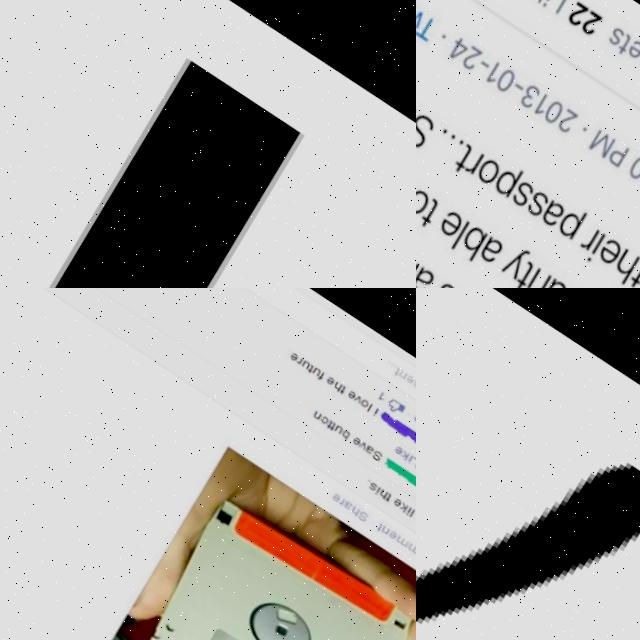0: (443, 29, 469, 58)
7: (416, 288, 640, 640)
A: (360, 436, 372, 448), (339, 492, 350, 504)
B: (335, 421, 348, 435)
E: (321, 367, 335, 380), (389, 436, 401, 448), (286, 344, 298, 356), (384, 521, 395, 533), (348, 428, 360, 439), (388, 489, 399, 500), (344, 382, 355, 393), (402, 366, 413, 377), (328, 485, 337, 496), (409, 404, 416, 416), (411, 503, 416, 516)
F: (314, 364, 324, 374)
H: (345, 498, 358, 510), (374, 481, 385, 493), (329, 373, 340, 385)
I: (0, 34, 327, 288), (368, 400, 377, 410), (401, 498, 409, 509), (370, 478, 378, 488), (404, 446, 412, 456)
K: (393, 494, 406, 506), (395, 442, 407, 454)
L: (405, 447, 416, 460), (363, 394, 371, 406), (405, 501, 412, 510)
M: (402, 534, 416, 548), (390, 527, 405, 540), (409, 370, 416, 384)
N: (376, 517, 387, 529), (395, 361, 406, 373), (310, 403, 321, 414)
O: (356, 390, 367, 402), (317, 408, 327, 418), (413, 541, 416, 554)
R: (293, 349, 302, 359), (334, 490, 342, 499)
S: (366, 441, 381, 457), (352, 502, 367, 516), (364, 473, 376, 485)
T: (379, 484, 390, 496), (370, 514, 381, 525), (389, 358, 400, 369), (336, 377, 345, 388), (322, 412, 331, 422), (304, 357, 313, 367), (326, 415, 333, 423)
U: (298, 352, 310, 364), (331, 417, 342, 429), (308, 359, 320, 370)
V: (355, 432, 366, 443), (351, 386, 362, 397)
